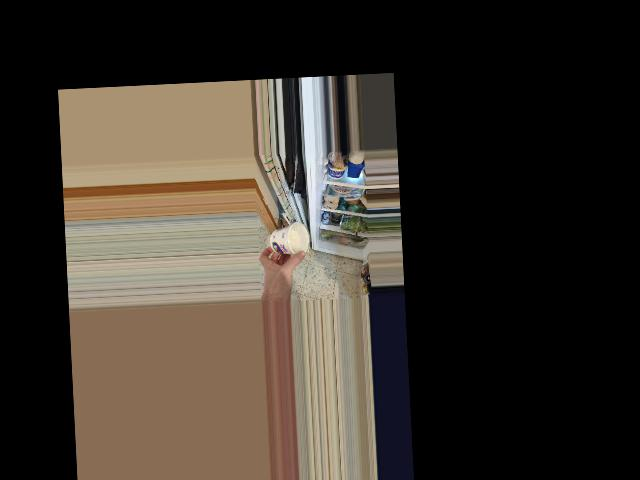cotage: (270, 222, 313, 257)
